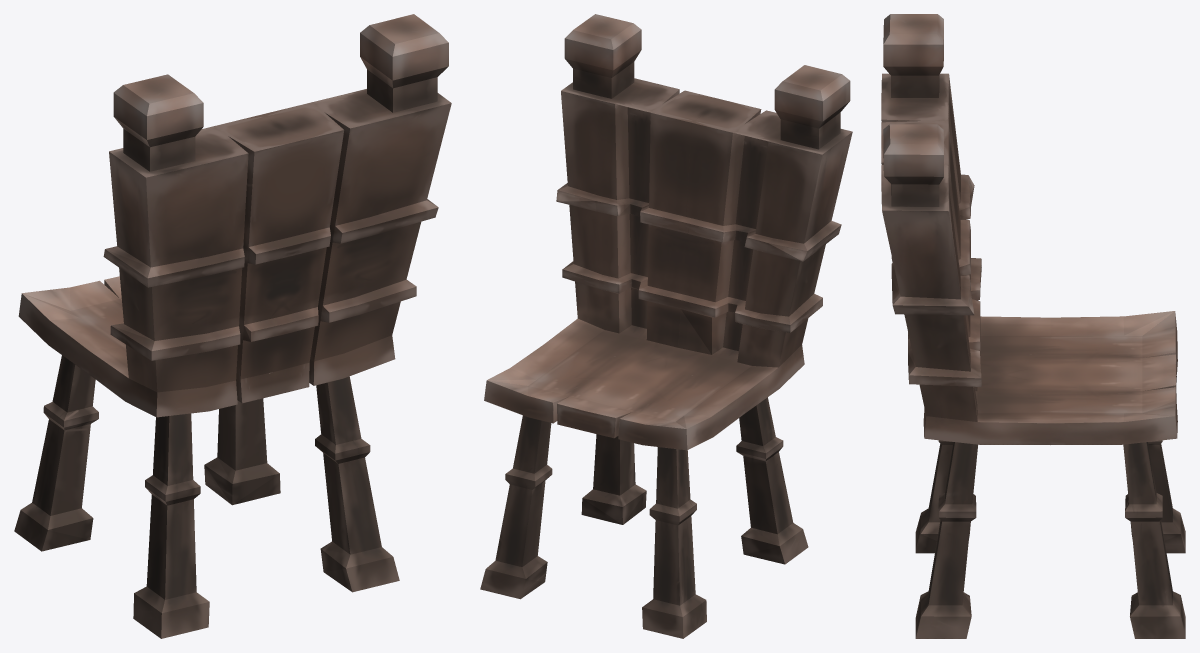
File: SM_krzeslo.fbx
The picture shows the model from 3 angles, left to right: view 1: azimuth 30°, elevation 25°; view 2: azimuth 150°, elevation 25°; view 3: azimuth 270°, elevation 25°; orthographic projection. The views are drawn at different scales.
Visible parts, largest first — view 1: krzeslo; view 2: krzeslo; view 3: krzeslo.
Part boxes in pixels (x1,y1,x2,y2): krzeslo: [14, 14, 451, 638]; krzeslo: [480, 14, 852, 638]; krzeslo: [881, 14, 1185, 638].
Size of the model in its own units: 71.12 by 122 by 66.57.
